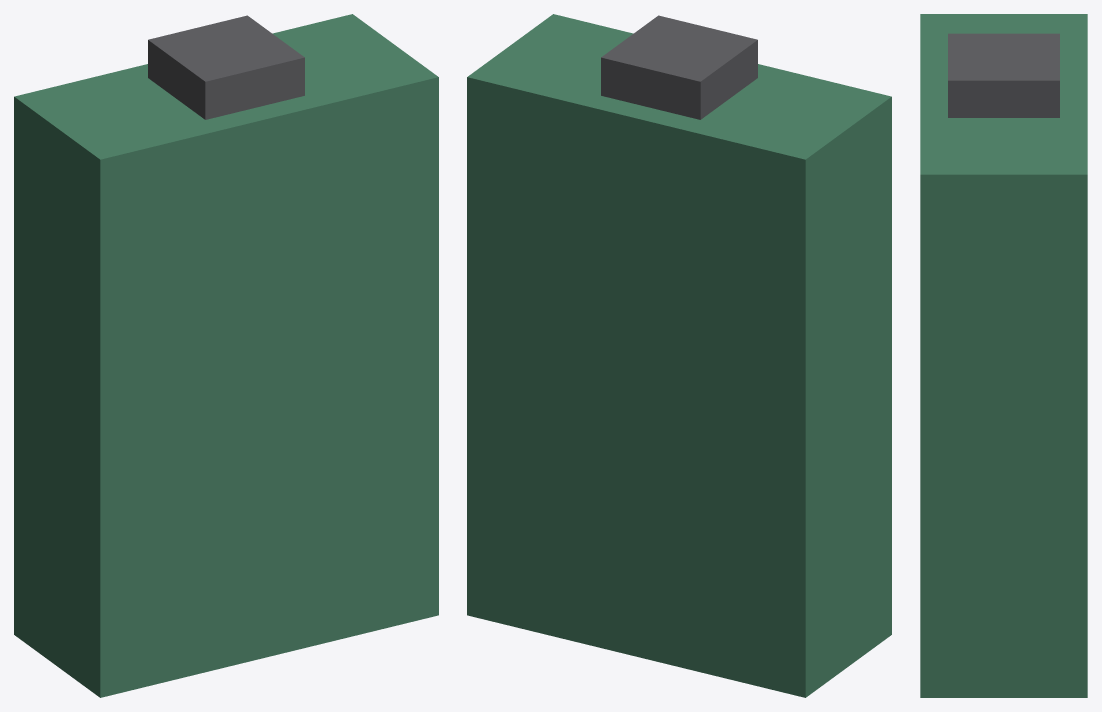
Rendered from irlz44n.glb.
3 views of the same model, side by side, from view 1: azimuth 30°, elevation 25°; view 2: azimuth 150°, elevation 25°; view 3: azimuth 270°, elevation 25° (orthographic). The views are drawn at different scales.
Visible parts, largest first — view 1: irlz44n-pcb, irlz44n-ic; view 2: irlz44n-pcb, irlz44n-ic; view 3: irlz44n-pcb, irlz44n-ic.
Boxes of the visible parts, left/top/right/bottom form: irlz44n-pcb: left=14, top=14, right=438, bottom=697; irlz44n-ic: left=148, top=15, right=304, bottom=119; irlz44n-pcb: left=467, top=14, right=891, bottom=697; irlz44n-ic: left=601, top=15, right=757, bottom=119; irlz44n-pcb: left=920, top=14, right=1087, bottom=697; irlz44n-ic: left=948, top=33, right=1059, bottom=117.
Bounding box in the file's own units: 0.0102 × 0.0166 × 0.0045.
